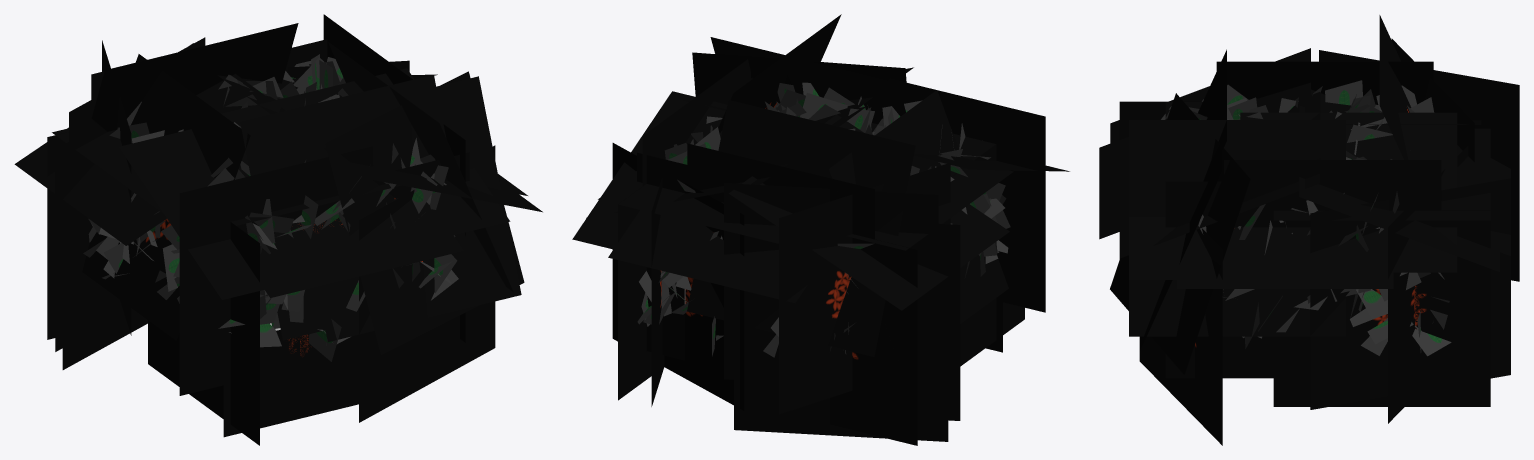
Rendered from model_ArbustoIxora_01.fbx.
3 views of the same model, side by side, from view 1: azimuth 30°, elevation 25°; view 2: azimuth 150°, elevation 25°; view 3: azimuth 270°, elevation 25° (orthographic). The views are drawn at different scales.
Visible parts, largest first — view 1: Cube|Plane.001|Dupli|24.1, Cube|Plane.001|Dupli|10.1, Cube|Plane.001|Dupli|33.1, Cube|Plane.001|Dupli|7.1, Cube|Plane.001|Dupli|20.1, Cube|Plane.001|Dupli|0.1, Cube|Plane.001|Dupli|27.1, Cube|Plane.001|Dupli|34.1, Cube|Plane.001|Dupli|32.1, Cube|Plane.001|Dupli|41.1, Cube|Plane.001|Dupli|23.1, Cube|Plane.001|Dupli|9.1 (+16 smaller); view 2: Cube|Plane.001|Dupli|27.1, Cube|Plane.001|Dupli|42.1, Cube|Plane.001|Dupli|15.1, Cube|Plane.001|Dupli|24.1, Cube|Plane.001|Dupli|12.1, Cube|Plane.001|Dupli|25.1, Cube|Plane.001|Dupli|40.1, Cube|Plane.001|Dupli|5.1, Cube|Plane.001|Dupli|4.1, Cube|Plane.001|Dupli|2.1, Cube|Plane.001|Dupli|7.1, Cube|Plane.001|Dupli|32.1 (+17 smaller); view 3: Cube|Plane.001|Dupli|8.1, Cube|Plane.001|Dupli|6.1, Cube|Plane.001|Dupli|3.1, Cube|Plane.001|Dupli|31.1, Cube|Plane.001|Dupli|17.1, Cube|Plane.001|Dupli|1.1, Cube|Plane.001|Dupli|42.1, Cube|Plane.001|Dupli|7.1, Cube|Plane.001|Dupli|33.1, Cube|Plane.001|Dupli|41.1, Cube|Plane.001|Dupli|28.1, Cube|Plane.001|Dupli|4.1 (+16 smaller).
Boxes of the visible parts, <box> form: Cube|Plane.001|Dupli|24.1: <box>179,146,373,395</box>; Cube|Plane.001|Dupli|10.1: <box>240,74,476,340</box>; Cube|Plane.001|Dupli|33.1: <box>325,71,524,354</box>; Cube|Plane.001|Dupli|7.1: <box>82,54,250,340</box>; Cube|Plane.001|Dupli|20.1: <box>119,129,407,299</box>; Cube|Plane.001|Dupli|0.1: <box>221,68,510,268</box>; Cube|Plane.001|Dupli|27.1: <box>91,23,298,131</box>; Cube|Plane.001|Dupli|34.1: <box>167,138,463,297</box>; Cube|Plane.001|Dupli|32.1: <box>325,76,521,341</box>; Cube|Plane.001|Dupli|41.1: <box>359,145,495,422</box>; Cube|Plane.001|Dupli|23.1: <box>223,189,410,437</box>; Cube|Plane.001|Dupli|9.1: <box>148,222,259,445</box>; Cube|Plane.001|Dupli|27.1: <box>687,100,915,356</box>; Cube|Plane.001|Dupli|42.1: <box>779,162,950,414</box>; Cube|Plane.001|Dupli|15.1: <box>724,183,938,390</box>; Cube|Plane.001|Dupli|24.1: <box>889,78,1045,312</box>; Cube|Plane.001|Dupli|12.1: <box>830,235,917,445</box>; Cube|Plane.001|Dupli|25.1: <box>608,109,807,303</box>; Cube|Plane.001|Dupli|40.1: <box>745,223,960,420</box>; Cube|Plane.001|Dupli|5.1: <box>729,114,1009,310</box>; Cube|Plane.001|Dupli|4.1: <box>612,143,744,410</box>; Cube|Plane.001|Dupli|2.1: <box>687,143,874,384</box>; Cube|Plane.001|Dupli|7.1: <box>829,90,1008,323</box>; Cube|Plane.001|Dupli|32.1: <box>710,37,905,123</box>; Cube|Plane.001|Dupli|8.1: <box>1129,120,1345,336</box>; Cube|Plane.001|Dupli|6.1: <box>1273,210,1490,406</box>; Cube|Plane.001|Dupli|3.1: <box>1240,112,1457,272</box>; Cube|Plane.001|Dupli|31.1: <box>1310,178,1510,409</box>; Cube|Plane.001|Dupli|17.1: <box>1224,160,1441,356</box>; Cube|Plane.001|Dupli|1.1: <box>1165,181,1382,378</box>; Cube|Plane.001|Dupli|42.1: <box>1319,50,1519,281</box>; Cube|Plane.001|Dupli|7.1: <box>1216,61,1433,104</box>; Cube|Plane.001|Dupli|33.1: <box>1110,93,1250,374</box>; Cube|Plane.001|Dupli|41.1: <box>1139,228,1222,445</box>; Cube|Plane.001|Dupli|28.1: <box>1176,227,1393,288</box>; Cube|Plane.001|Dupli|4.1: <box>1388,146,1468,423</box>.
Size of the model in its own units: 56.86 by 43.51 by 58.06.
